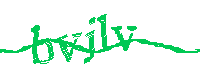b: (31, 25, 55, 65)
j: (83, 14, 98, 68)
l: (96, 12, 113, 53)
v: (54, 33, 83, 65), (112, 23, 138, 53)
